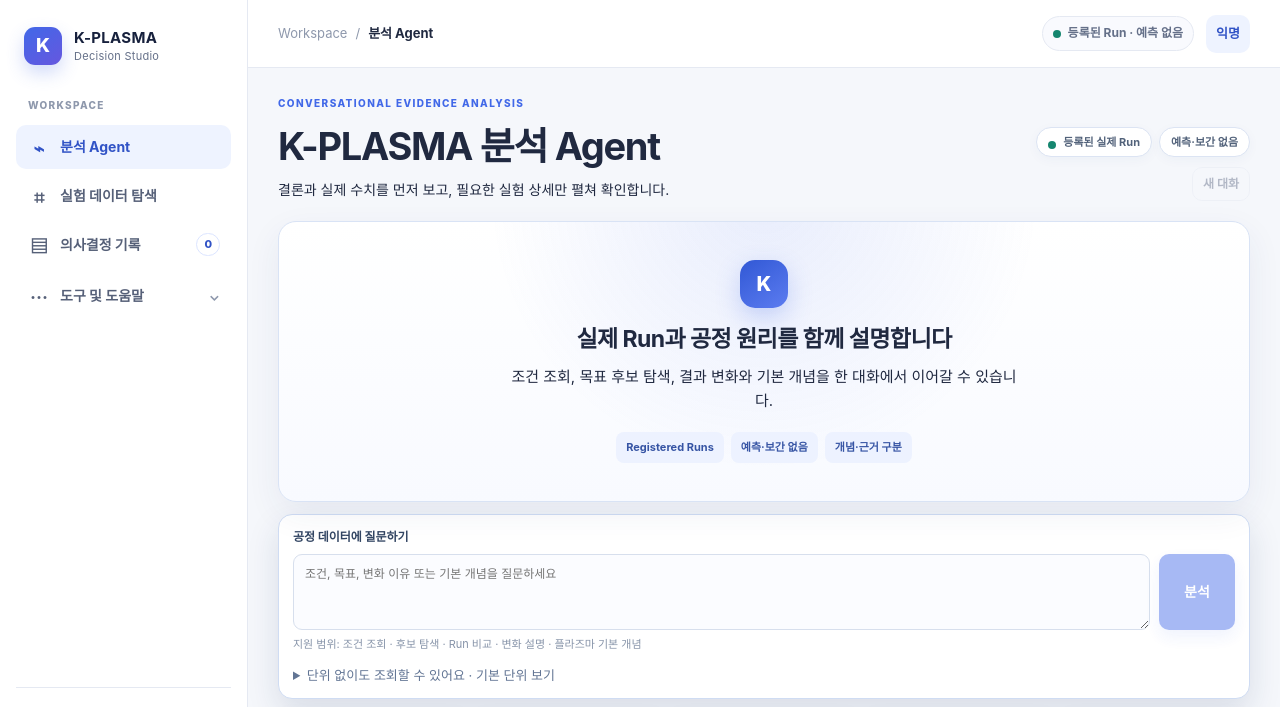
navigation to analysis after deleting all Runs fetches the empty list instead of retaining a deleted selection
The width and height of the screenshot is (1280, 707).
What coordinates should you click on to do the following:
click the button "⌗ 실험 데이터 탐색"
I would click on:
 (124, 196)
Its box is [16, 174, 231, 218].
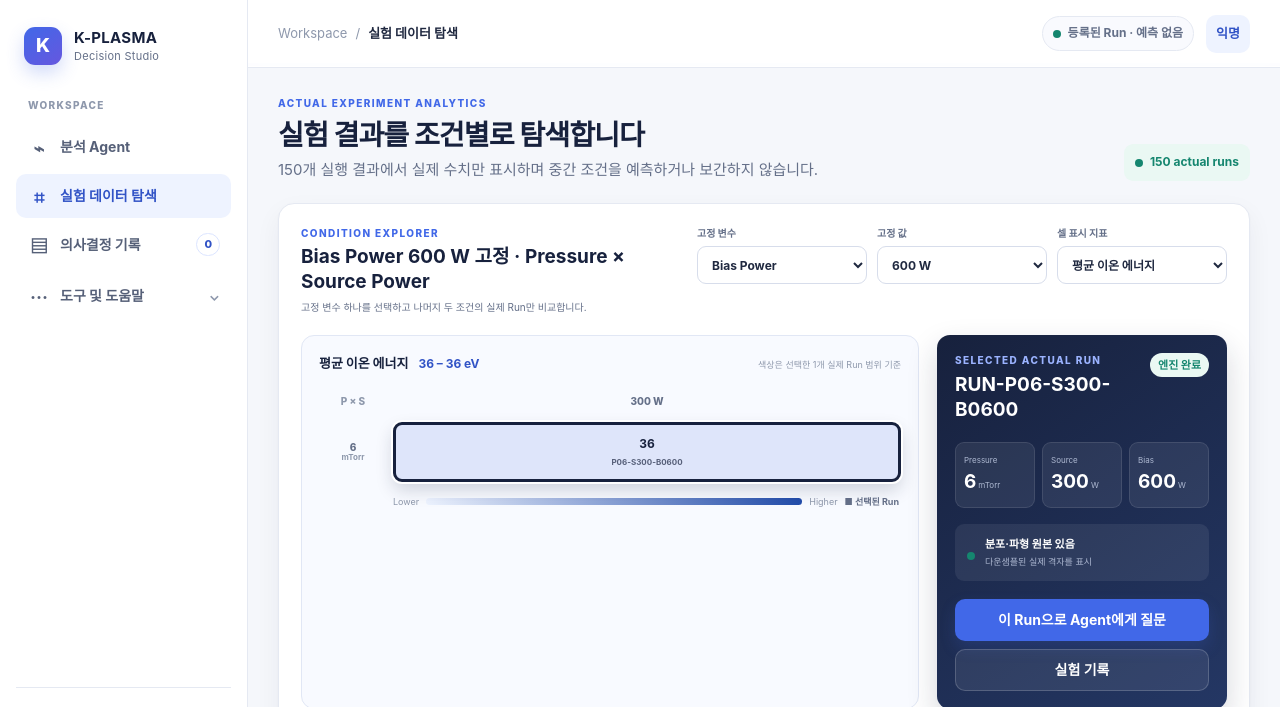
What coordinates should you click on to do the following:
click the text "도구 및 도움말"
I would click on:
 (102, 295)
Its box is [60, 287, 144, 304].
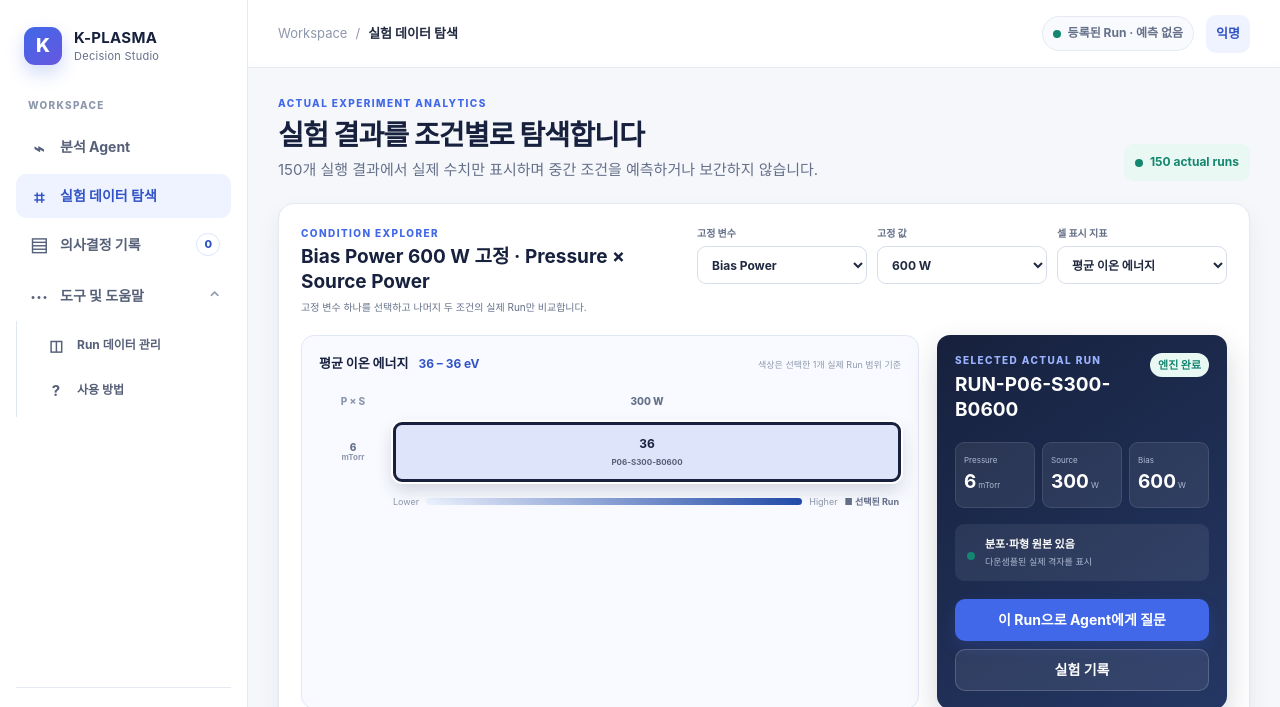
What coordinates should you click on to do the following:
click the button "◫ Run 데이터 관리"
I would click on:
 (132, 346)
Its box is [33, 324, 231, 366].
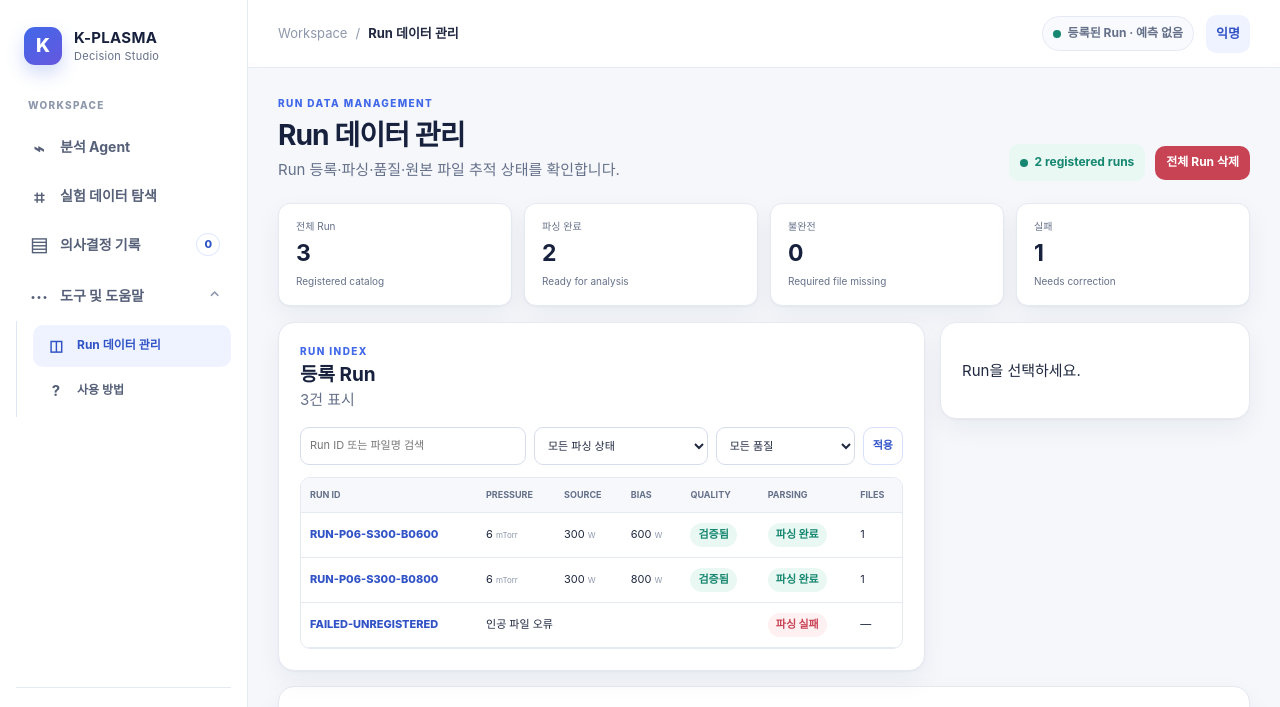
Expected: the button "RUN-P06-S300-B0600" is shown, [310, 526, 438, 543]
What coordinates should you click on to do the following:
click the button "전체 Run 삭제"
I would click on:
 (1203, 163)
Its box is [1155, 146, 1250, 180].
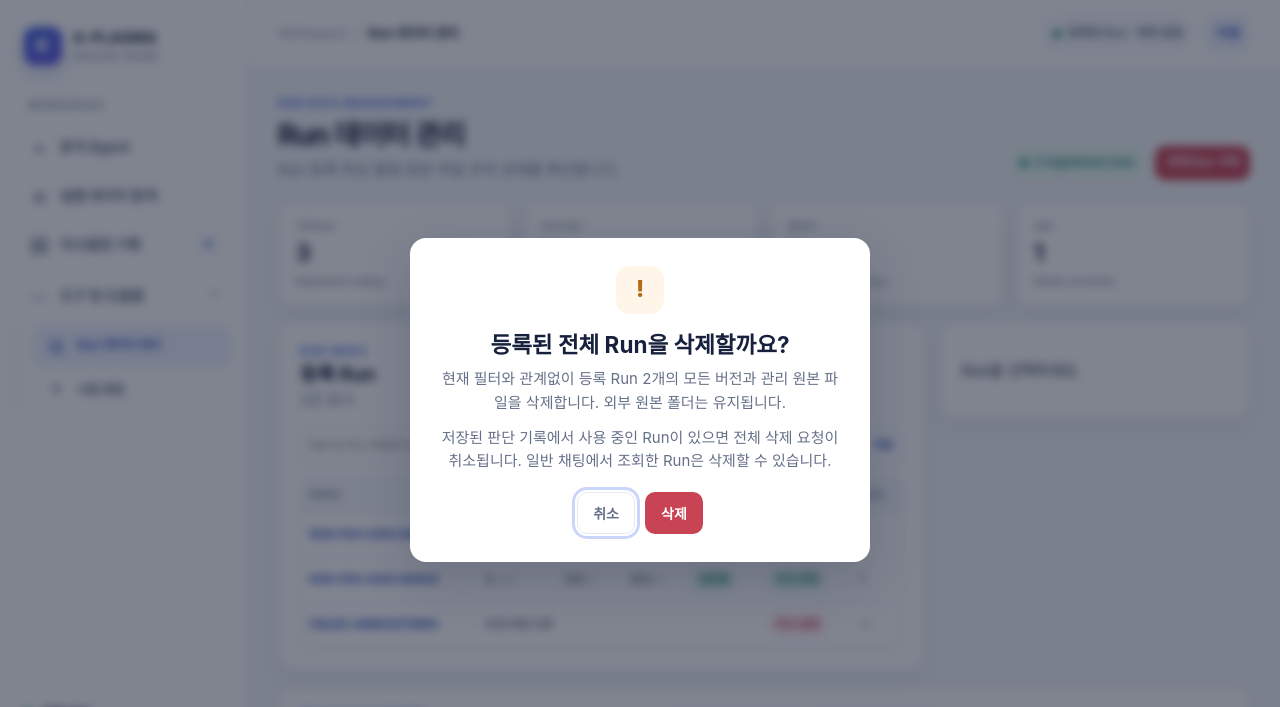
What coordinates should you click on to do the following:
click the button "삭제"
I would click on:
 (674, 513)
Its box is [645, 492, 703, 534].
(page scrolled)
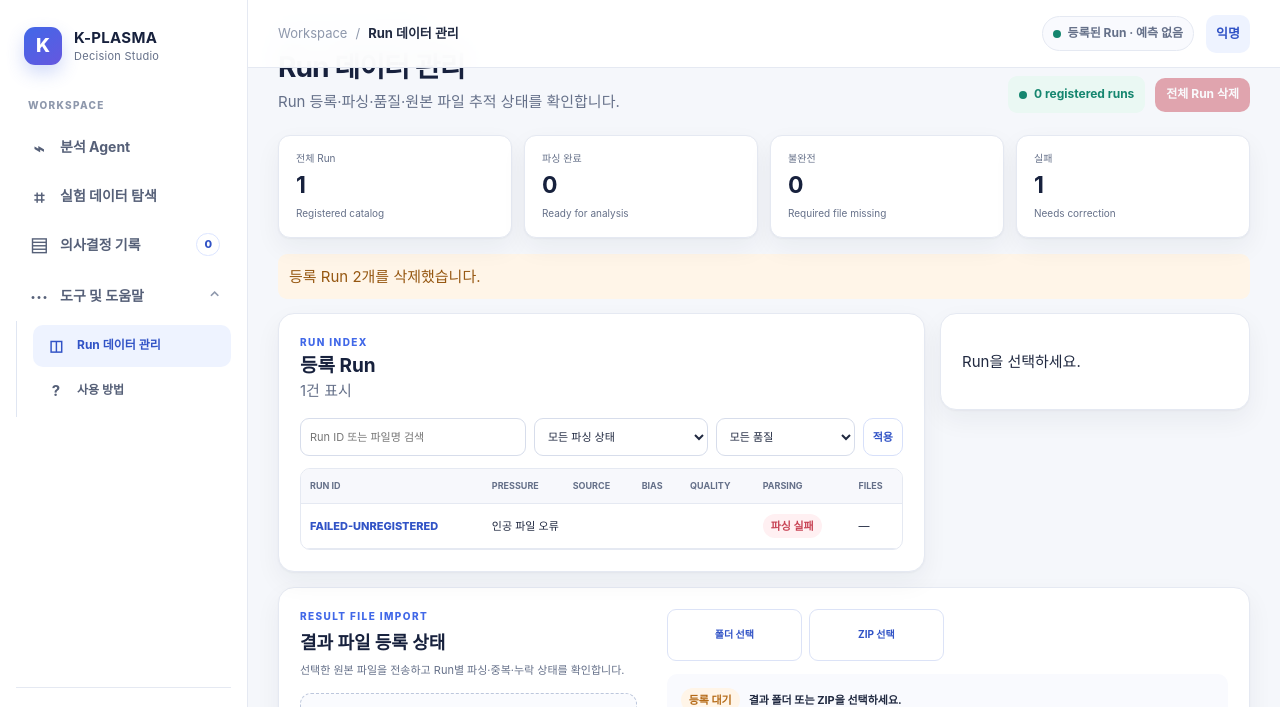
Expected: the dialog is gone
What coordinates should you click on to do the following:
click the button "⌗ 실험 데이터 탐색"
I would click on:
 (124, 196)
Its box is [16, 174, 231, 218].
(page scrolled)
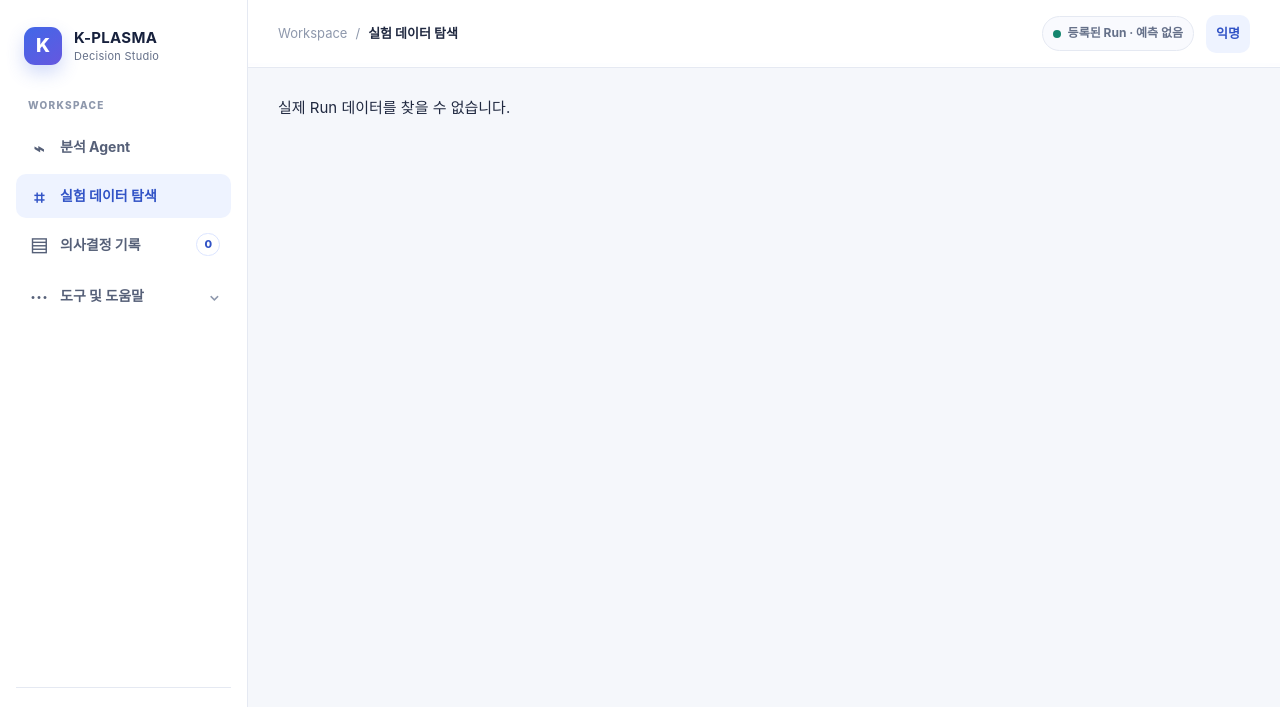
Expected: the text "실제 Run 데이터를 찾을 수 없습니다." is shown, [278, 98, 510, 117]
